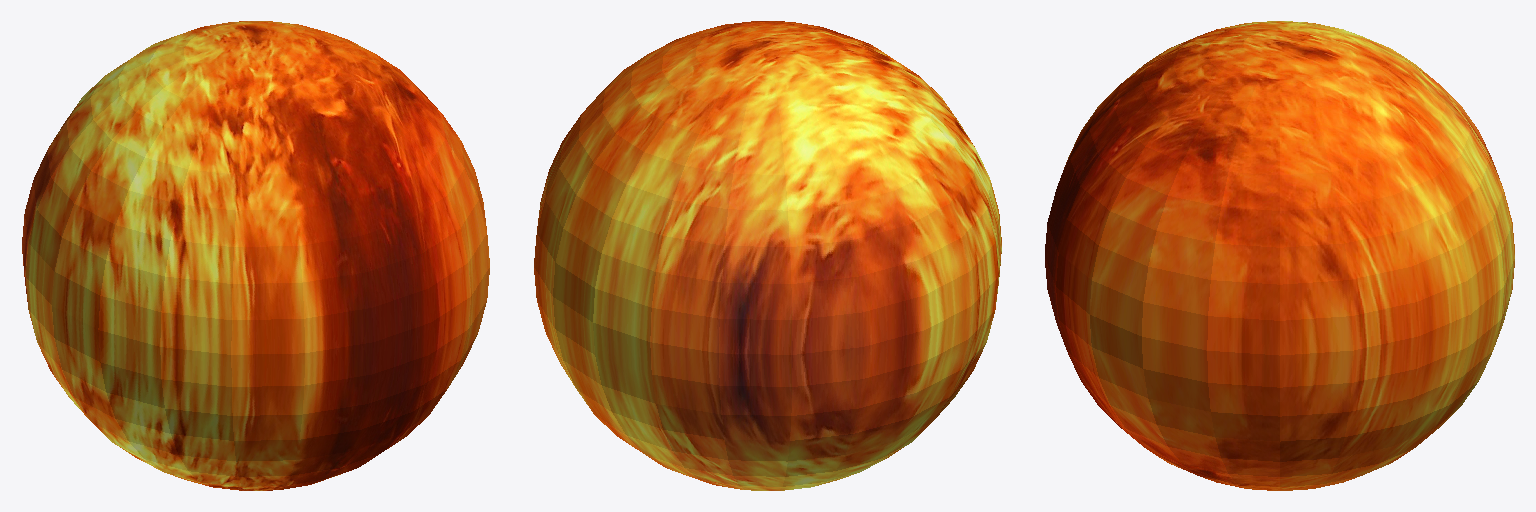
3 views of the same model, side by side, from view 1: azimuth 30°, elevation 25°; view 2: azimuth 150°, elevation 25°; view 3: azimuth 270°, elevation 25° (orthographic).
Visible parts, largest first — view 1: pSphere1; view 2: pSphere1; view 3: pSphere1.
Boxes of the visible parts, box(x1,y1,x2,y2) form: pSphere1: box(22, 21, 489, 490); pSphere1: box(534, 21, 1001, 490); pSphere1: box(1045, 21, 1514, 490).
Size of the model in its own units: 2 by 2 by 2.
Materials: 1 (1 with a texture image).